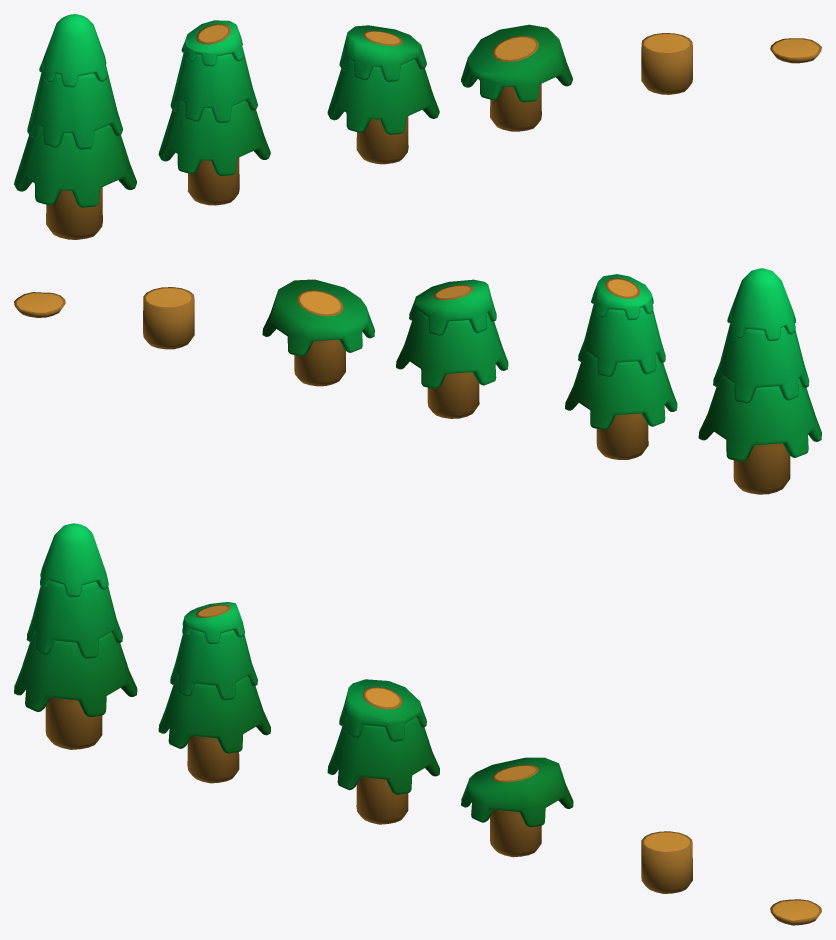
File: trees parented.fbx
The picture shows the model from 3 angles, top to bottom: view 1: azimuth 30°, elevation 25°; view 2: azimuth 150°, elevation 25°; view 3: azimuth 330°, elevation 25°; orthographic projection.
Visible parts, largest first — view 1: Cylinder.412, Cylinder.057, Cylinder.067, Cylinder.417, Cylinder.419, Cylinder.421; view 2: Cylinder.412, Cylinder.057, Cylinder.067, Cylinder.417, Cylinder.419, Cylinder.421; view 3: Cylinder.412, Cylinder.057, Cylinder.067, Cylinder.417, Cylinder.419, Cylinder.421.
Boxes of the visible parts, x1,y1,x2,y2 form: Cylinder.412: (14, 14, 136, 239); Cylinder.057: (158, 20, 270, 205); Cylinder.067: (327, 25, 439, 164); Cylinder.417: (461, 24, 572, 131); Cylinder.419: (641, 33, 692, 94); Cylinder.421: (770, 38, 821, 63); Cylinder.412: (698, 268, 821, 494); Cylinder.057: (565, 274, 677, 459); Cylinder.067: (396, 279, 508, 418); Cylinder.417: (262, 279, 374, 386); Cylinder.419: (143, 287, 194, 349); Cylinder.421: (14, 292, 65, 317); Cylinder.412: (14, 523, 137, 749); Cylinder.057: (158, 602, 270, 783); Cylinder.067: (327, 679, 439, 824); Cylinder.417: (461, 757, 573, 857); Cylinder.419: (641, 831, 692, 893); Cylinder.421: (770, 899, 821, 925).
Size of the model in its own units: 135 by 35.18 by 18.05.
